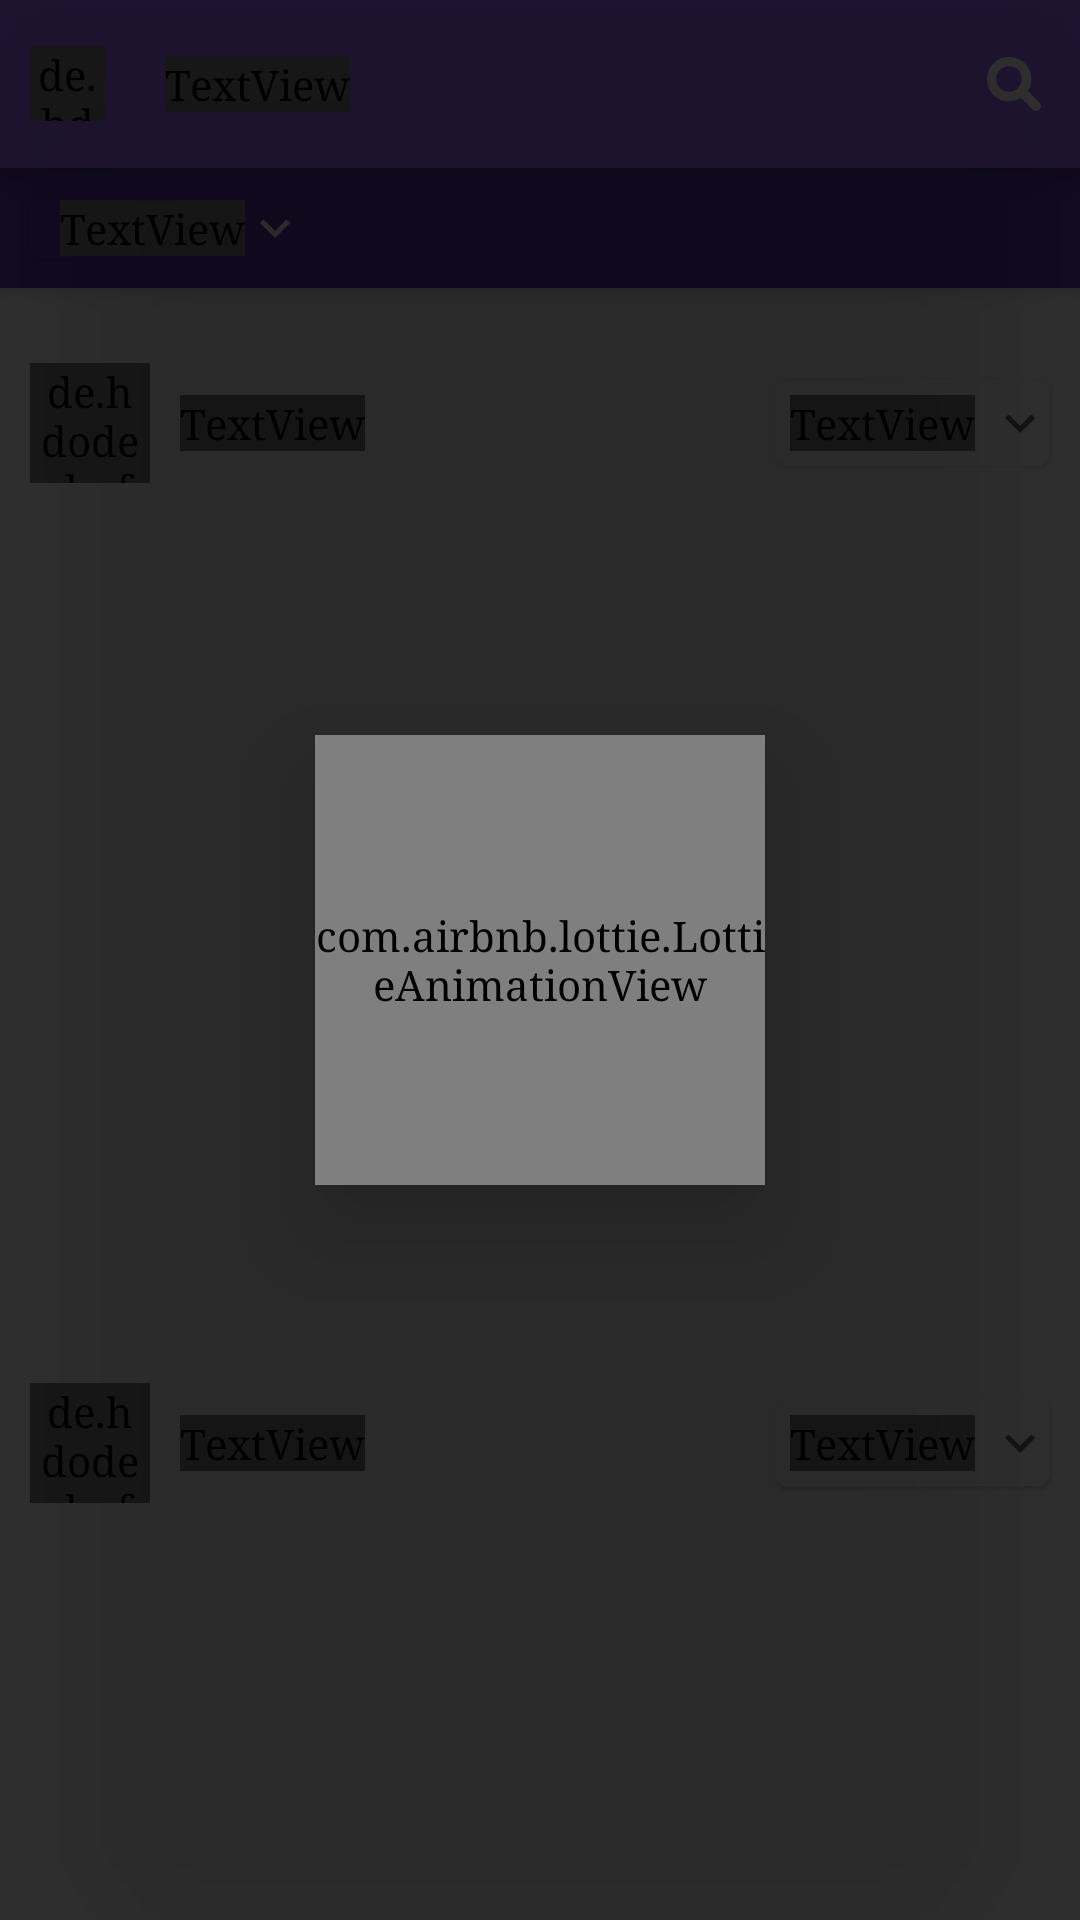

Named icons in this screenshot (1080px×1920px) and their bounding boxes, (x1, y1, x2, y2):
expand more: (261, 220, 289, 237), (1006, 415, 1034, 432), (1006, 1435, 1034, 1452)
search: (987, 57, 1041, 111)
